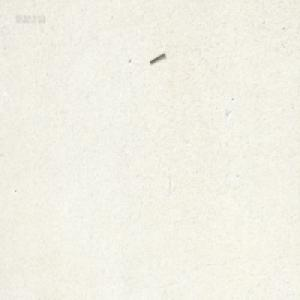Bolt: (148, 52, 165, 64)
